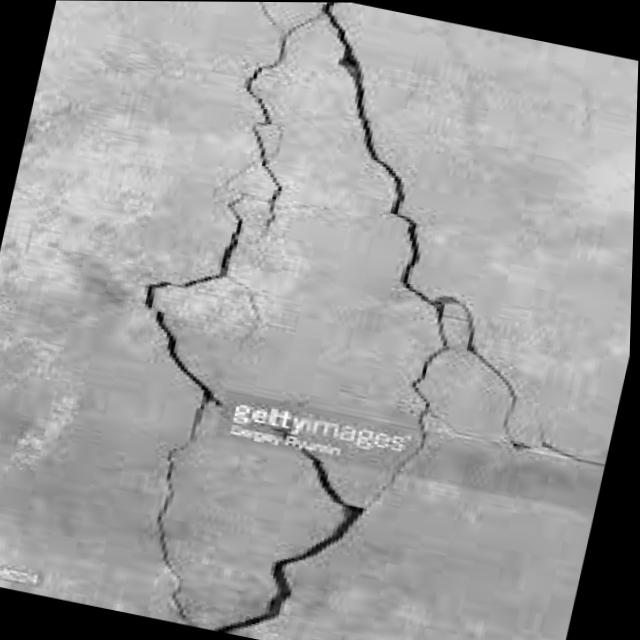Crack: (72, 49, 321, 500), (255, 2, 500, 289), (312, 255, 599, 435), (229, 504, 397, 640)
